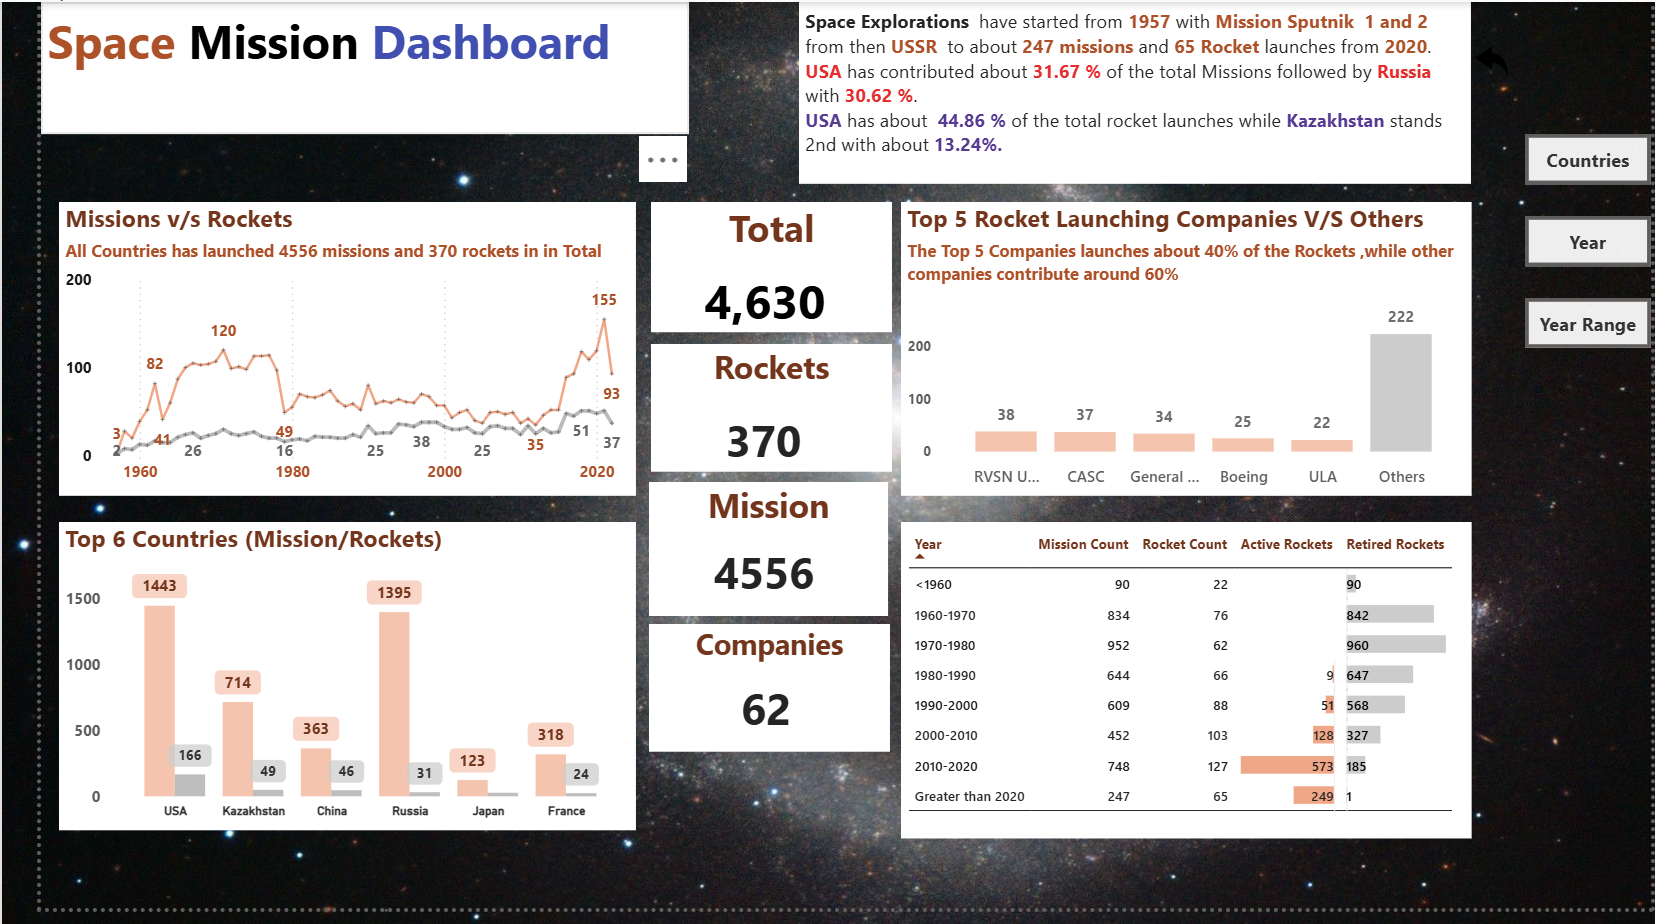

What the dashboard file says about the page in this screenshot:
{"tool":"powerbi","page":{"name":"Space Dashboard","canvas":[1280,720],"ordinal":0},"visuals":[{"type":"kpi","title":"Total ","fields":{"Indicator":["space_missions.Total Rows"]},"box":[484,158.3,191.7,103.3],"z":1000},{"type":"cardVisual","fields":{"Data":["space_missions.Total Rows"]},"box":[486.7,195,183.3,66.7],"z":2000},{"type":"kpi","title":"Rockets","fields":{"Indicator":["space_missions.Total Rows"]},"box":[484,271,191.7,101.7],"z":3000},{"type":"kpi","title":"Mission","fields":{"Indicator":["space_missions.Total Rows"]},"box":[483.3,382,190,106.7],"z":4000},{"type":"cardVisual","fields":{"Data":["space_missions.Total Mission"]},"box":[481.7,413.3,191.7,75],"z":5000},{"type":"cardVisual","fields":{"Data":["space_missions.Total Rockets"]},"box":[481.7,308.3,190,65],"z":6000},{"type":"textbox","box":[0,0,515,105],"z":7000},{"type":"kpi","title":"Companies","fields":{"Indicator":["space_missions.Total Rows"]},"box":[483.3,495,191.7,101.7],"z":9000},{"type":"cardVisual","fields":{"Data":["space_missions.Total Companies"]},"box":[483.3,521.7,191.7,75],"z":10000},{"type":"clusteredColumnChart","title":"Top 5 Rocket Launching Companies V/S Others","fields":{"Category":["PsuedoCompany Table.Company"],"Y":["space_missions.Top5 Company Rocket"]},"box":[684,158.3,453.3,233.3],"z":13000},{"type":"lineClusteredColumnComboChart","title":"Top 6 Countries (Mission/Rockets)","fields":{"Category":["Countries.Countries"],"Y":["space_missions.Top5Countries By Mission","space_missions.Top5Rockets by Countries"]},"box":[15,413.3,458.3,245],"z":14000},{"type":"lineChart","title":"Missions v/s Rockets ","fields":{"Y":["space_missions.Total Mission","space_missions.Total Rockets"],"Category":["space_missions.Date.Variation.Date Hierarchy.Year","space_missions.Date.Variation.Date Hierarchy.Quarter"]},"box":[15,158.3,458.3,233.3],"z":15000},{"type":"tableEx","fields":{"Values":["space_missions.SwitchDate","space_missions.Total Mission","space_missions.Total Rockets","space_missions.RocketStats","space_missions.RetiredRocketStat"]},"box":[684,413.3,453.3,251.7],"z":16000},{"type":"actionButton","box":[1180,105,100,40],"z":19000},{"type":"actionButton","box":[1180,170,100,40],"z":20000},{"type":"actionButton","box":[1136.7,30,81.7,33.3],"z":21000},{"type":"textbox","box":[602.4,0,534,144.6],"z":22000},{"type":"actionButton","box":[1179.3,235.2,100.1,39.7],"z":22001}]}

Visuals, with their boxes in screenshot pixels (x1, y1, x2, y2), scaled from the page's 1280x720 canvas onto the 1655x924 screenshot:
"Total " kpi: (626, 203, 874, 336)
cardVisual - space_missions.Total Rows: (629, 250, 866, 336)
"Rockets" kpi: (626, 348, 874, 478)
"Mission" kpi: (625, 490, 871, 627)
cardVisual - space_missions.Total Mission: (623, 530, 871, 627)
cardVisual - space_missions.Total Rockets: (623, 396, 868, 479)
textbox: (0, 0, 666, 135)
"Companies" kpi: (625, 635, 873, 766)
cardVisual - space_missions.Total Companies: (625, 670, 873, 766)
"Top 5 Rocket Launching Companies V/S Others" clusteredColumnChart: (884, 203, 1470, 503)
"Top 6 Countries (Mission/Rockets)" lineClusteredColumnComboChart: (19, 530, 612, 845)
"Missions v/s Rockets " lineChart: (19, 203, 612, 503)
tableEx - space_missions.SwitchDate x space_missions.Total Mission: (884, 530, 1470, 853)
actionButton: (1526, 135, 1654, 186)
actionButton: (1526, 218, 1654, 270)
actionButton: (1470, 38, 1575, 81)
textbox: (779, 0, 1469, 186)
actionButton: (1525, 302, 1654, 353)
